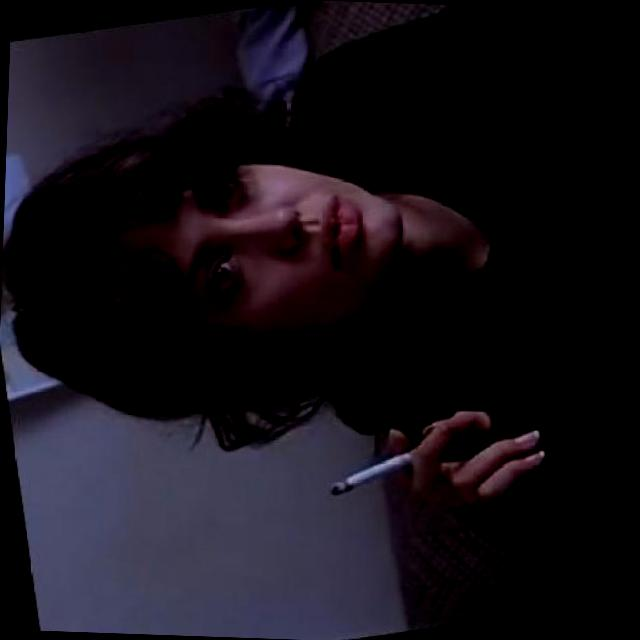smoke: (322, 436, 426, 502)
